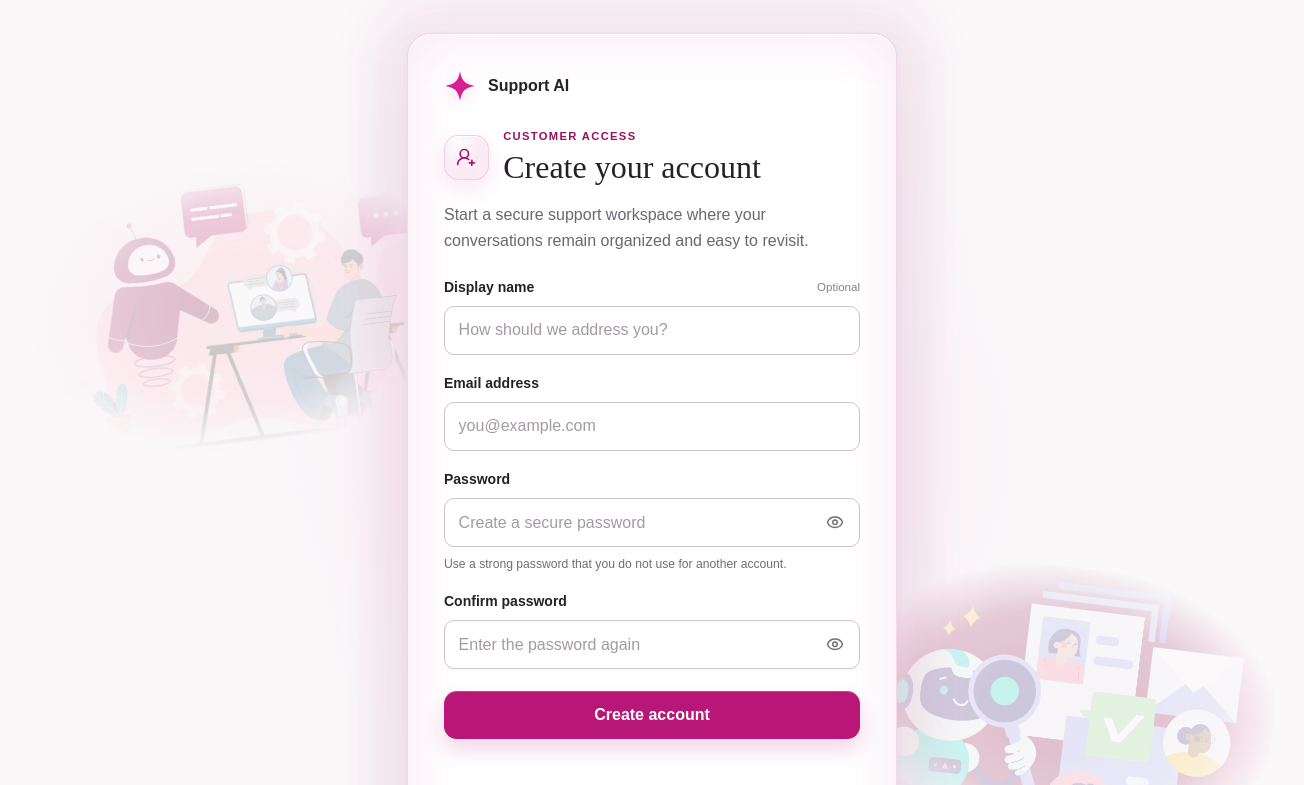
Test: registration form › shows a safe password-policy error
Type " Customer Name " into the field labelled "Display name Optional". click: (652, 330)
box: [444, 306, 860, 355]
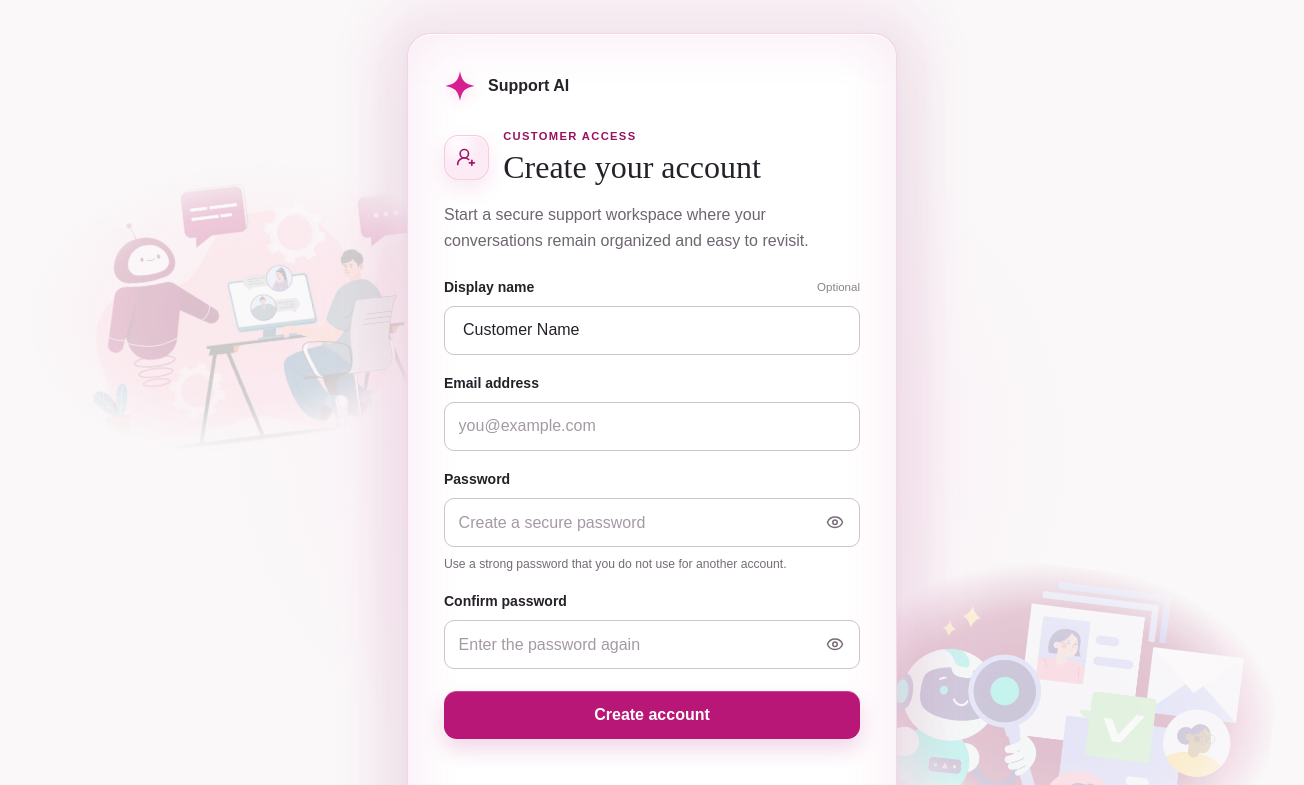
Type " CUSTOMER@example.test " into the field labelled "Email address". click: (652, 426)
box: [444, 402, 860, 451]
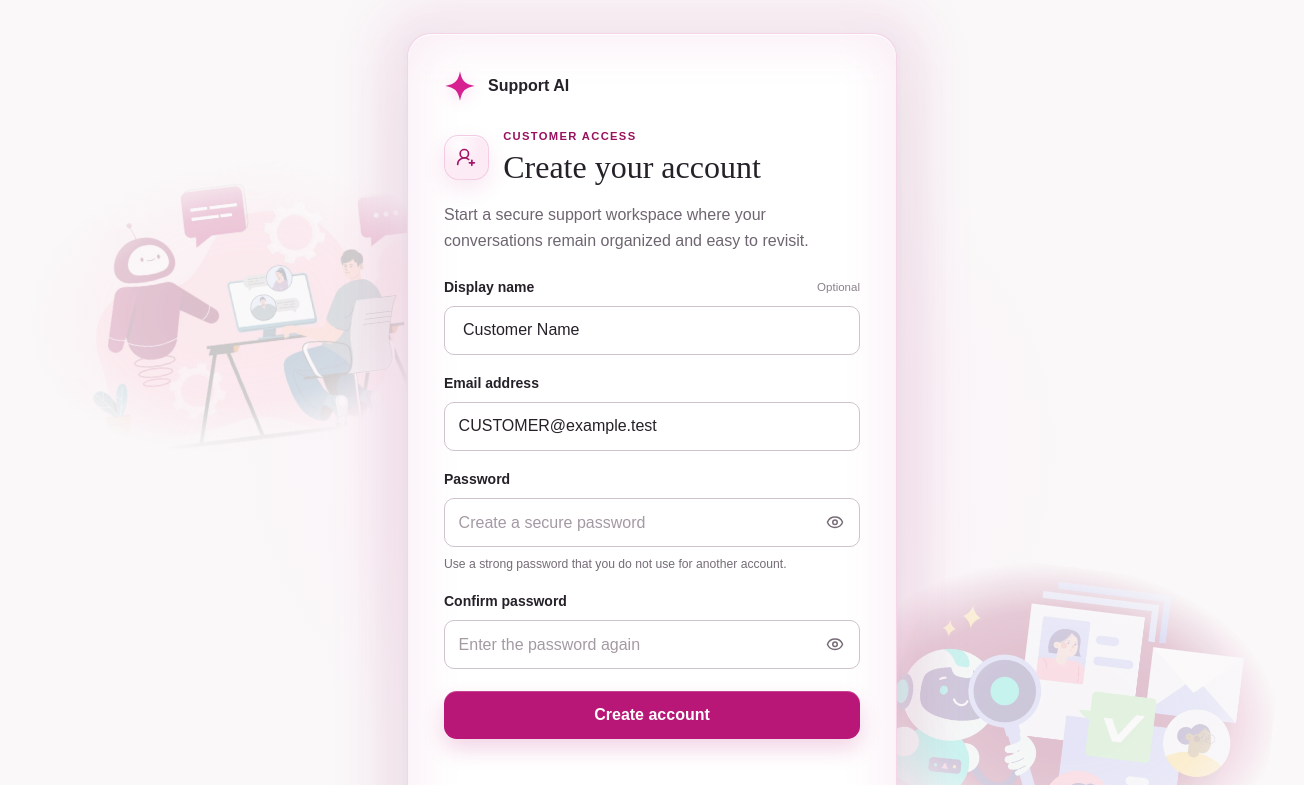
Type "  secure password  " into the password field labelled "Password". click: (652, 522)
box: [444, 498, 860, 547]
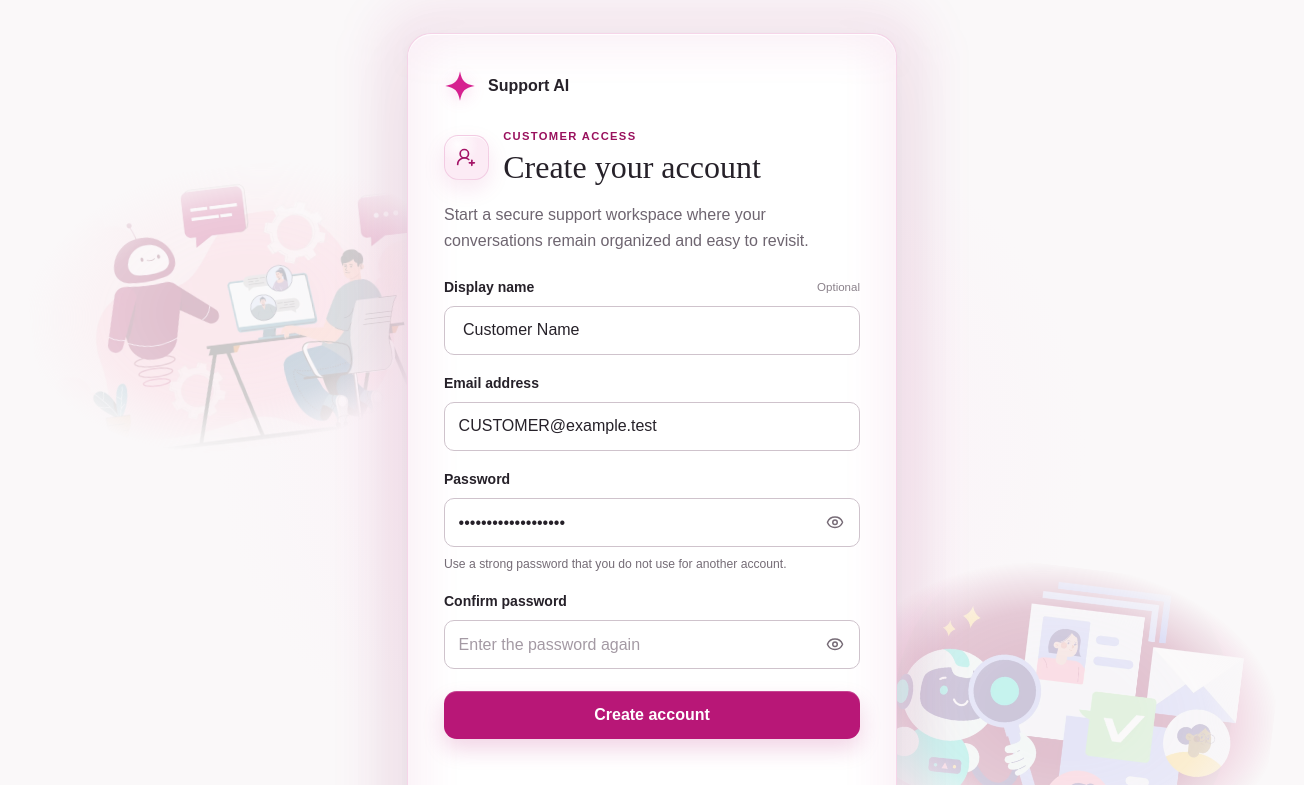
Type "  secure password  " into the password field labelled "Confirm password". click: (652, 644)
box: [444, 620, 860, 669]
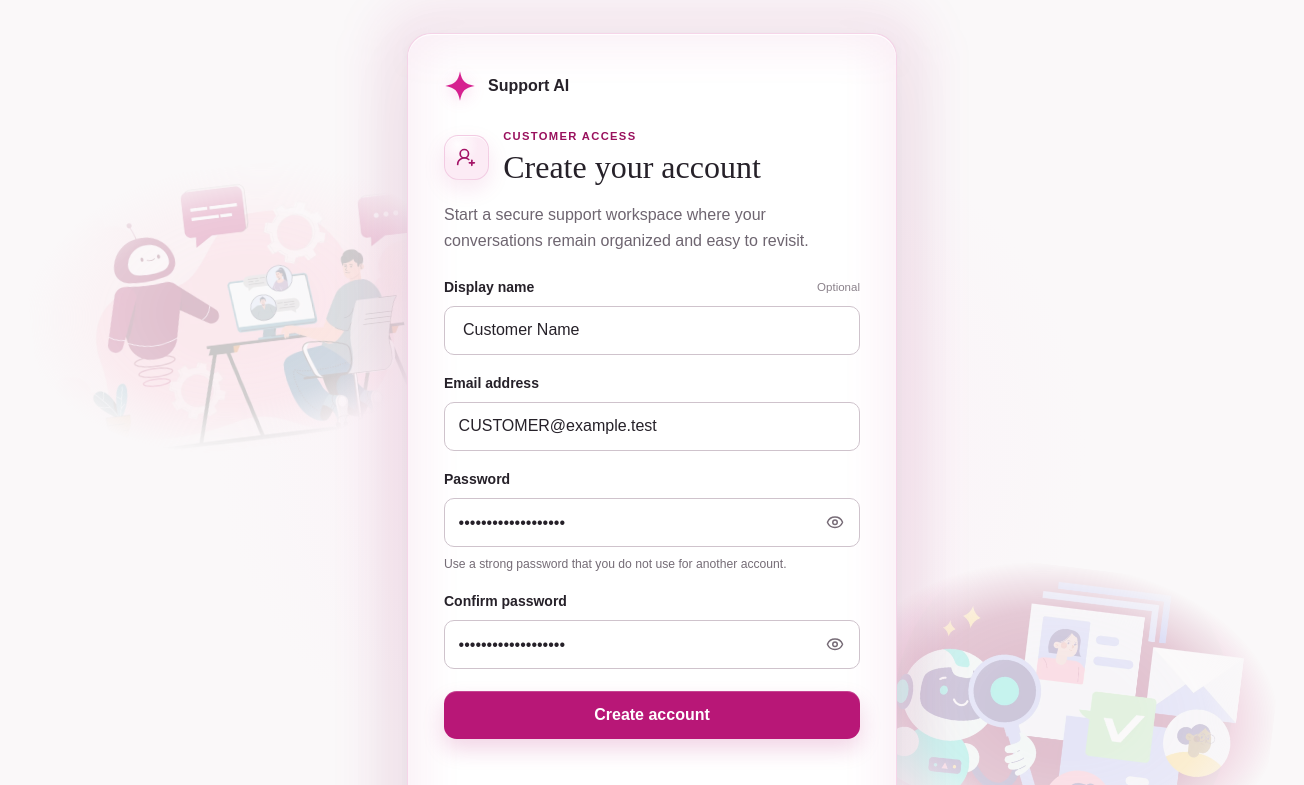
Submit the form named "Create customer account", box [444, 277, 860, 784]
(page scrolled)
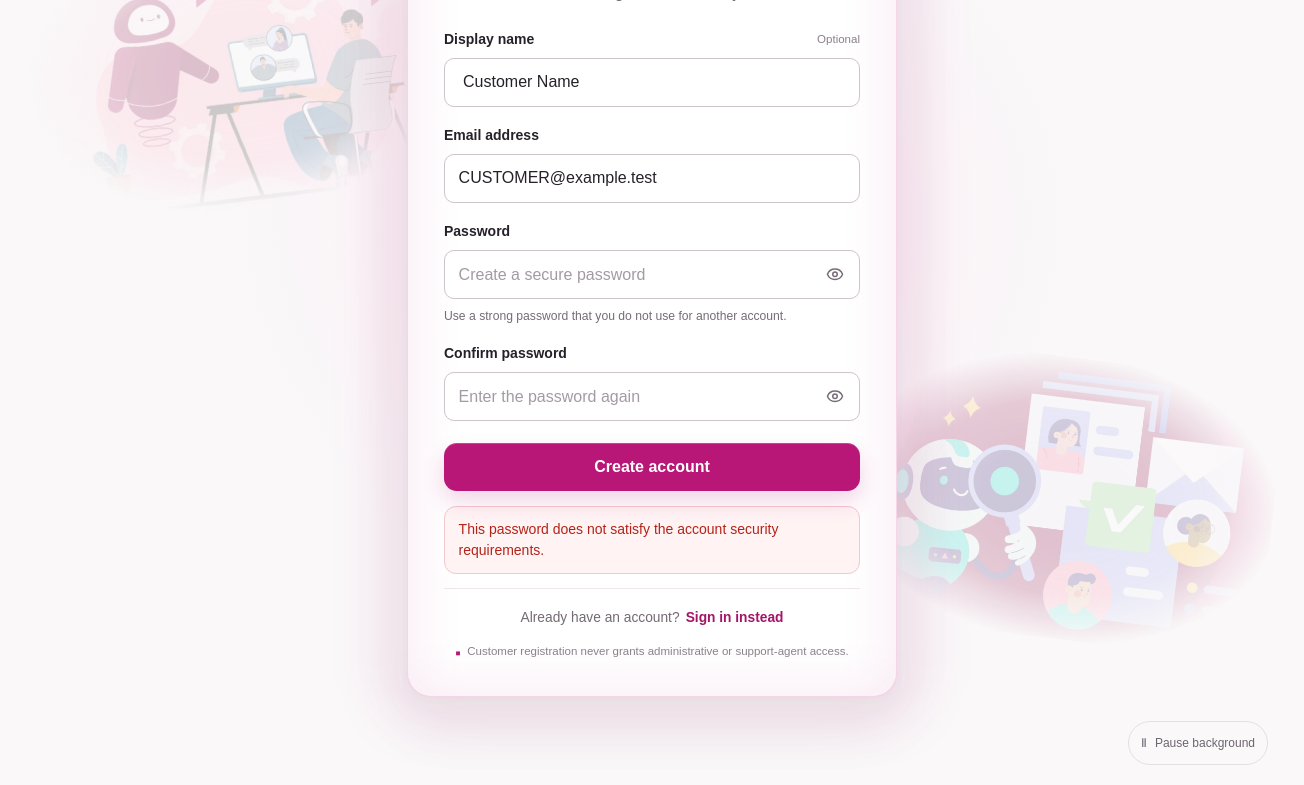
Expected: the message reads "This password does not satisfy the account security requirements.", [459, 521, 778, 558]
